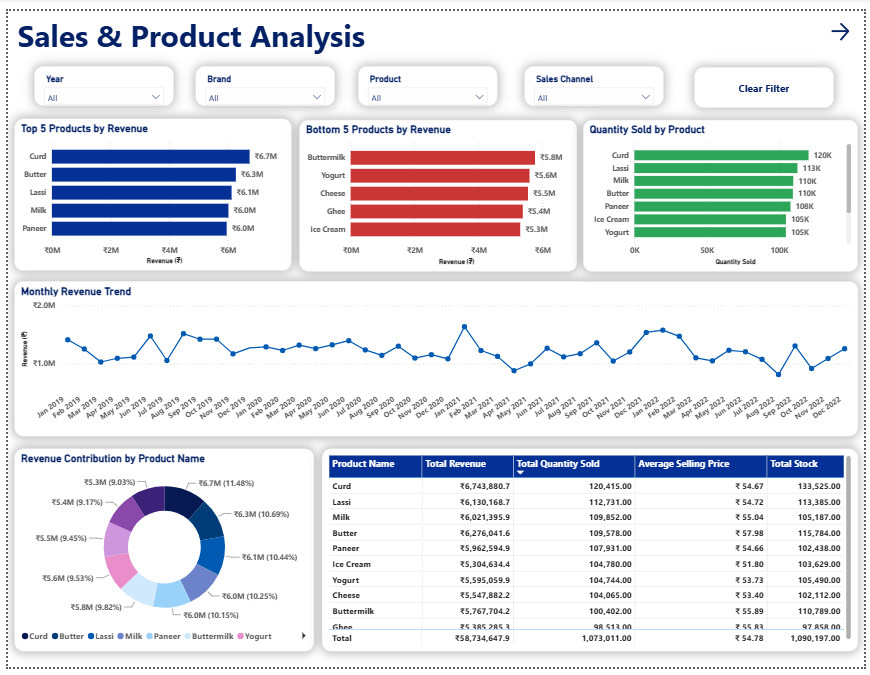

The page's visual inventory and layout, read from the dashboard file:
{"tool":"powerbi","page":{"name":"Sales & Product Analysis ","canvas":[1370,1050],"ordinal":1},"visuals":[{"type":"textbox","box":[10,0,1360,80],"z":0},{"type":"slicer","fields":{"Values":["Calendar.Year"]},"box":[41.7,88.3,222.9,64.3],"z":1000,"group":"g1"},{"type":"clusteredBarChart","title":"Top 5 Products by Revenue","fields":{"Category":["Fact_DairySales.Product Name"],"Y":["Measures (2).Total Revenue"]},"box":[10,172.9,444.3,244.3],"z":1000},{"type":"slicer","fields":{"Values":["Fact_DairySales.Brand"]},"box":[298.8,88.3,222.9,64.3],"z":2000,"group":"g1"},{"type":"clusteredBarChart","title":"Bottom 5 Products by Revenue","fields":{"Category":["Fact_DairySales.Product Name"],"Y":["Measures (2).Total Revenue"]},"box":[466.7,173.3,445,243.3],"z":2000},{"type":"slicer","fields":{"Values":["Fact_DairySales.Product Name"]},"box":[558.8,88.3,222.9,64.3],"z":3000,"group":"g1"},{"type":"lineChart","title":"Monthly Revenue Trend","fields":{"Category":["Calendar.Year Month"],"Y":["Measures (2).Total Revenue"]},"box":[10,432.9,1350,248.6],"z":3000},{"type":"slicer","fields":{"Values":["Fact_DairySales.Sales Channel"]},"box":[826,88.3,222.9,64.3],"z":4000,"group":"g1"},{"type":"clusteredBarChart","title":"Quantity Sold by Product","fields":{"Category":["Fact_DairySales.Product Name"],"Y":["Measures (2).Total Quantity Sold"]},"box":[920,173.3,440,243.3],"z":4000},{"type":"group","id":"g1","title":"Group 1","box":[41.7,88.3,1006.7,65],"z":5000},{"type":"donutChart","title":"Revenue Contribution by Product Name","fields":{"Category":["Fact_DairySales.Product Name"],"Y":["Measures (2).Total Revenue"]},"box":[10,700,480,325],"z":6000},{"type":"tableEx","fields":{"Values":["Fact_DairySales.Product Name","Measures (2).Total Revenue","Measures (2).Total Quantity Sold","Measures (2).Average Selling Price","Measures (2).Total Stock"]},"box":[501.7,700,858.3,325],"z":7000},{"type":"actionButton","box":[1098.3,90,223.3,65],"z":8000},{"type":"actionButton","box":[1311.7,13.3,48.3,38.3],"z":9000}]}

Visuals, with their boxes in screenshot pixels (x1, y1, x2, y2), scaled from the page's 1370x1050 canvas onto the 870x675 screenshot:
textbox: (6,0,869,51)
slicer - Calendar.Year: (26,57,168,98)
"Top 5 Products by Revenue" clusteredBarChart: (6,111,288,268)
slicer - Fact_DairySales.Brand: (190,57,331,98)
"Bottom 5 Products by Revenue" clusteredBarChart: (296,111,579,268)
slicer - Fact_DairySales.Product Name: (355,57,496,98)
"Monthly Revenue Trend" lineChart: (6,278,864,438)
slicer - Fact_DairySales.Sales Channel: (525,57,666,98)
"Quantity Sold by Product" clusteredBarChart: (584,111,864,268)
"Group 1" group: (26,57,666,99)
"Revenue Contribution by Product Name" donutChart: (6,450,311,659)
tableEx - Fact_DairySales.Product Name x Measures (2).Total Revenue: (319,450,864,659)
actionButton: (697,58,839,100)
actionButton: (833,9,864,33)
